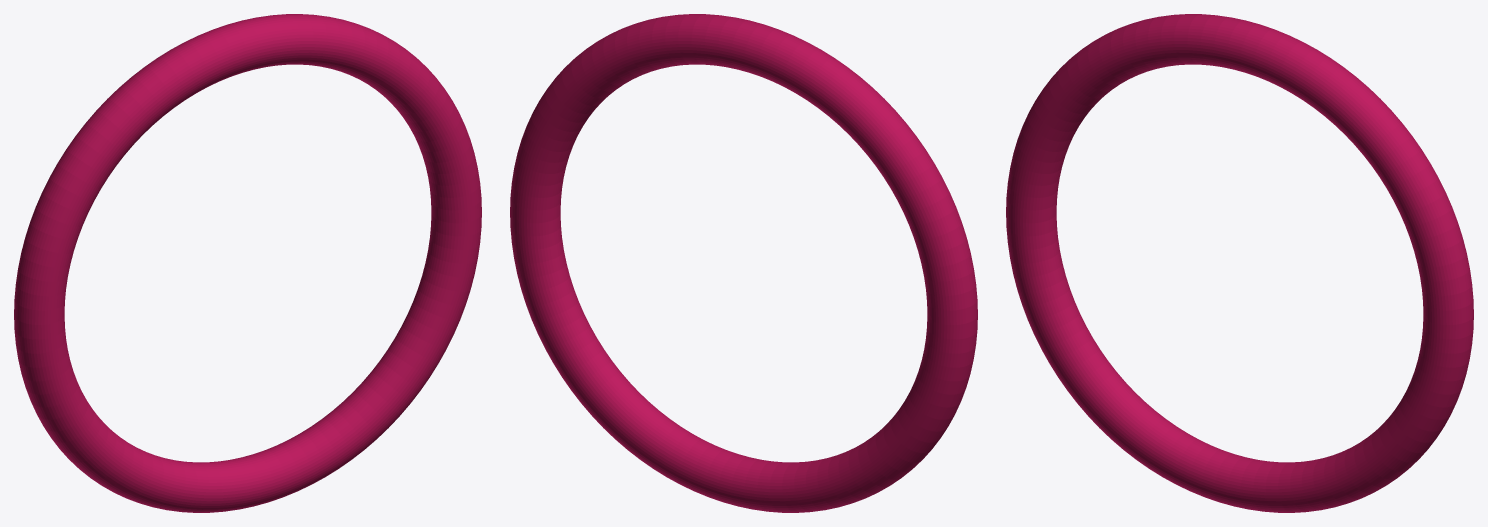
3 views of the same model, side by side, from view 1: azimuth 30°, elevation 25°; view 2: azimuth 150°, elevation 25°; view 3: azimuth 330°, elevation 25° (orthographic).
Parts seen in each view (by area): view 1: world; view 2: world; view 3: world.
Boxes of the visible parts, box(x1,y1,x2,y2) form: world: box(14, 14, 481, 512); world: box(510, 14, 977, 512); world: box(1006, 14, 1473, 512).
Bounding box in the file's own units: 29.47 × 29.47 × 2.79.
